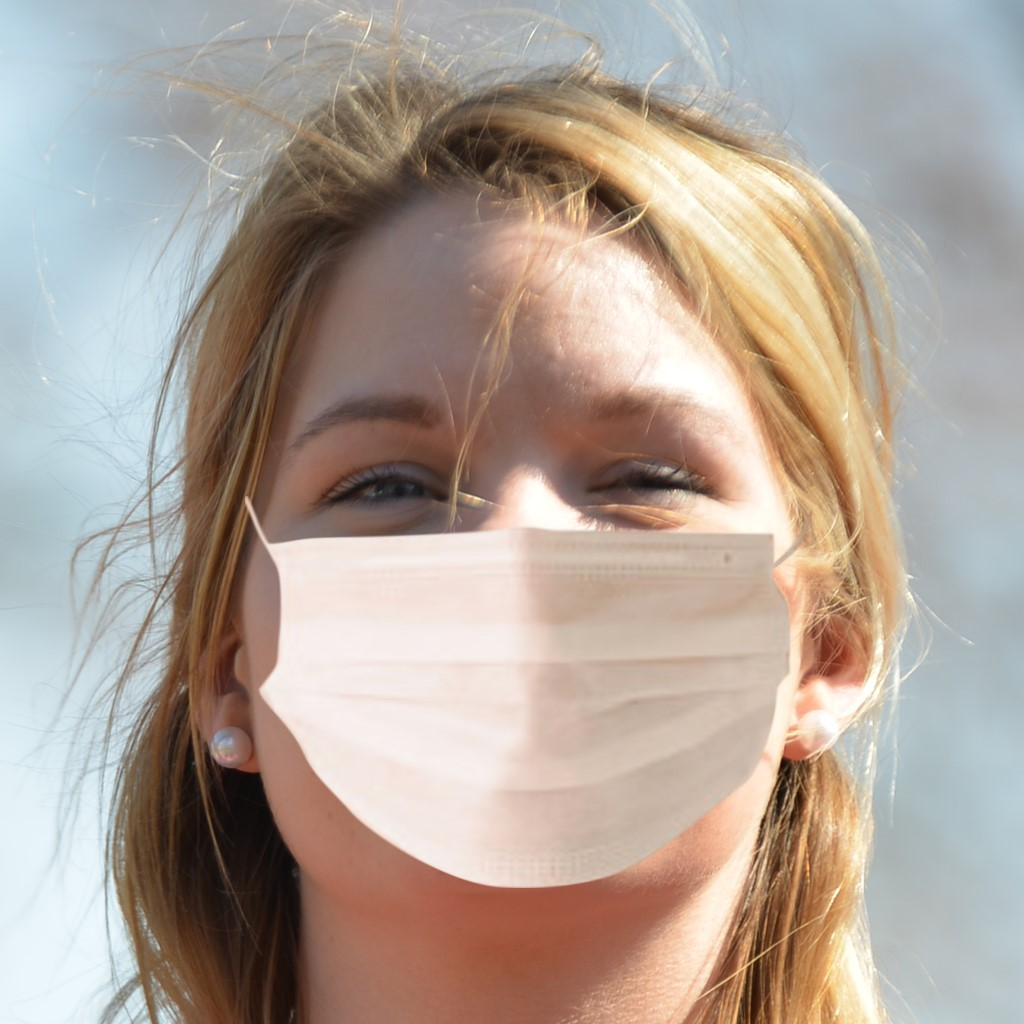con_mascara: (217, 157, 806, 928)
